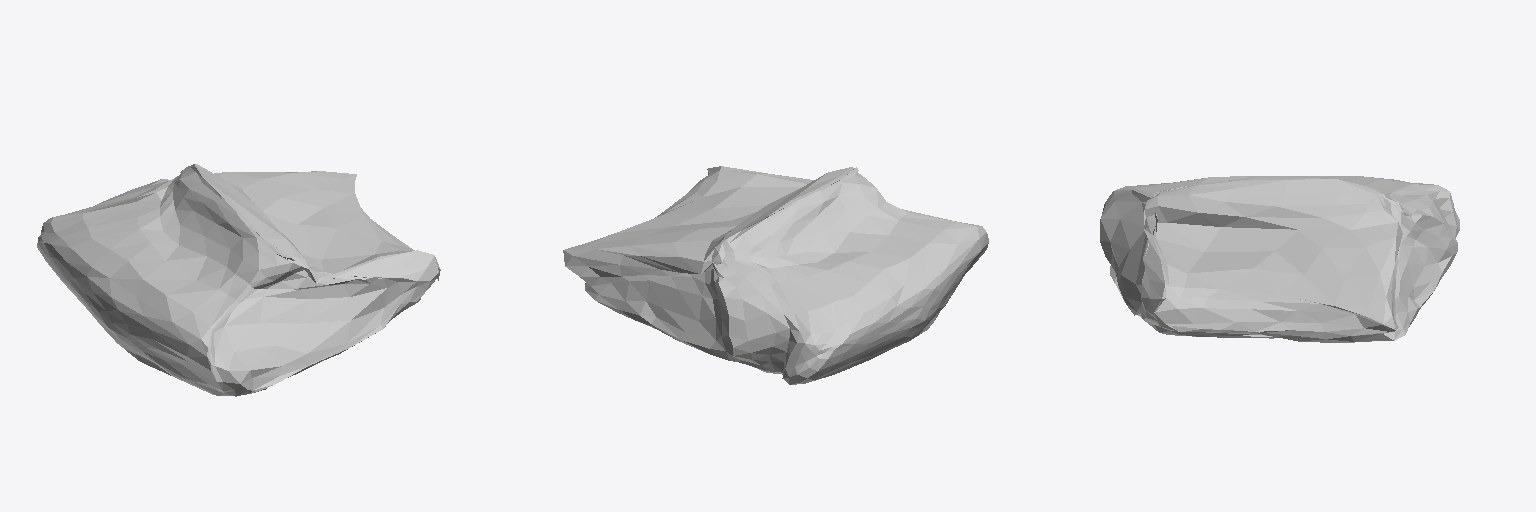
Rendered from video3_238.obj.
3 renders of one model, left to right at view 1: azimuth 30°, elevation 25°; view 2: azimuth 150°, elevation 25°; view 3: azimuth 270°, elevation 25°, orthographic.
Bounding box in the file's own units: 0.9804 × 0.3958 × 1.